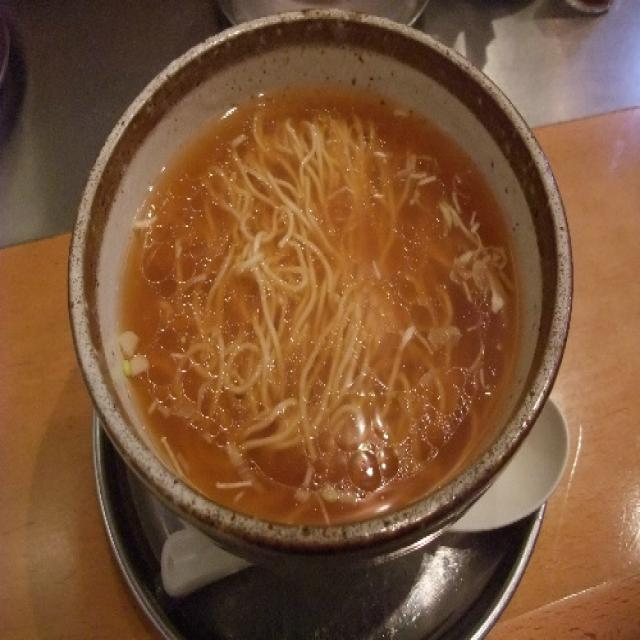面条主食: (77, 14, 545, 534)
